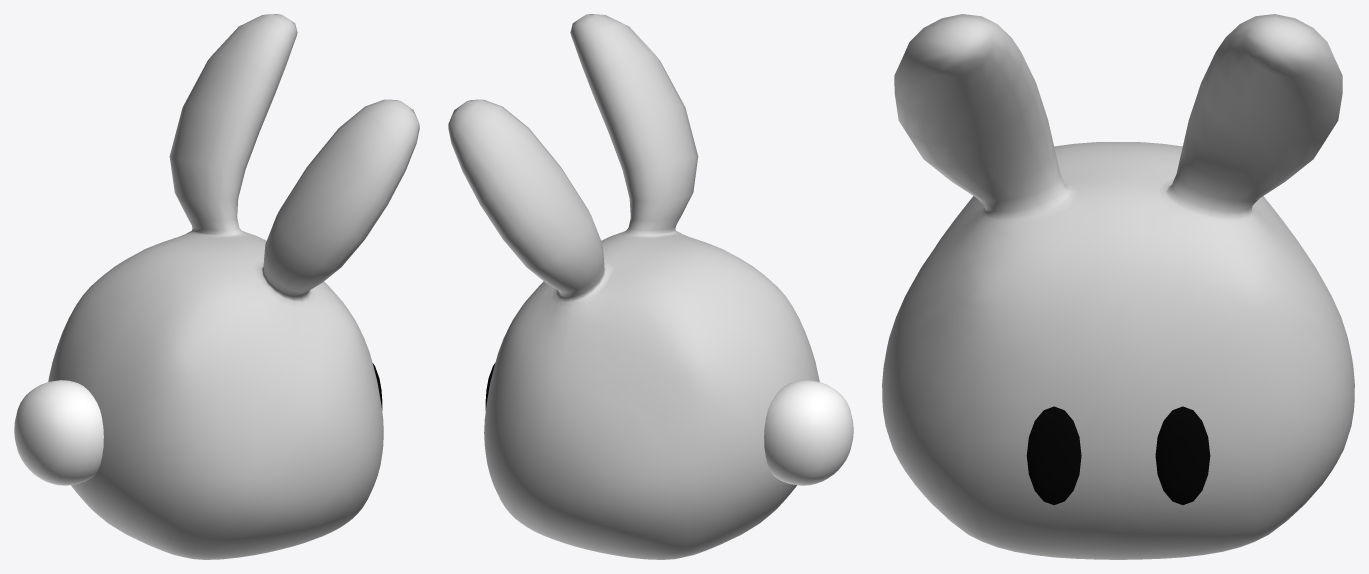
The model's file is rabbit-transformed.glb.
3 renders of one model, left to right at view 1: azimuth 30°, elevation 25°; view 2: azimuth 150°, elevation 25°; view 3: azimuth 270°, elevation 25°, orthographic. The views are drawn at different scales.
Visible parts, largest first — view 1: Roundcube, Roundcube.002; view 2: Roundcube, Roundcube.002; view 3: Roundcube, Roundcube.001.
Part boxes in pixels (x1,y1,x2,y2): Roundcube: [48, 14, 419, 559]; Roundcube.002: [14, 380, 103, 485]; Roundcube: [448, 14, 819, 559]; Roundcube.002: [764, 380, 853, 485]; Roundcube: [882, 14, 1354, 559]; Roundcube.001: [1026, 406, 1210, 505].
Size of the model in its own units: 1.72 by 2.19 by 1.61.
Materials: 3 (1 with a texture image).
